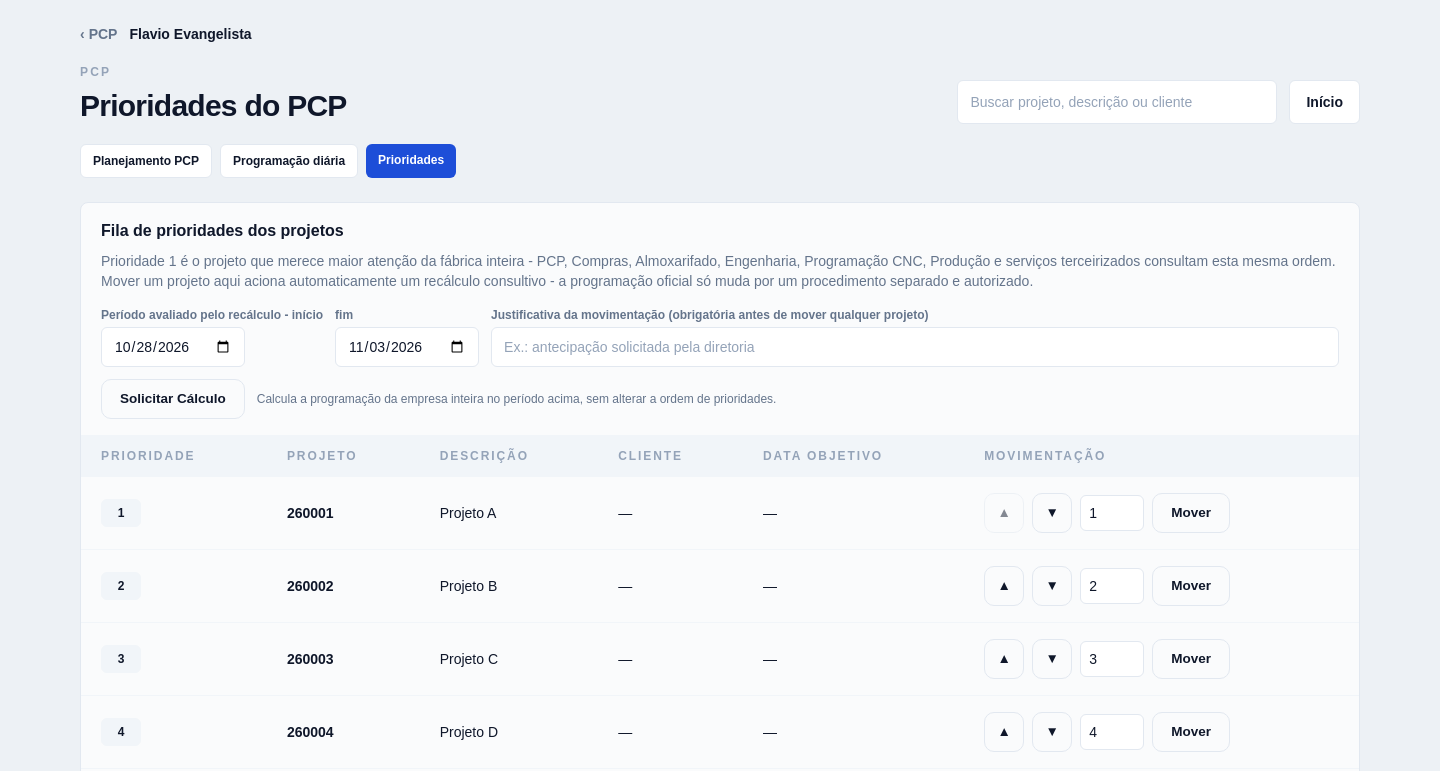
Scenario: PrioridadesPcpPage - Solicitar Cálculo (I6H) › reserva ocupada por uma movimentação de prioridade em andamento: mensagem específica
The image size is (1440, 771).
Click the button "Solicitar Cálculo" at [173, 399], box top-left (101, 379), bottom-right (245, 419)
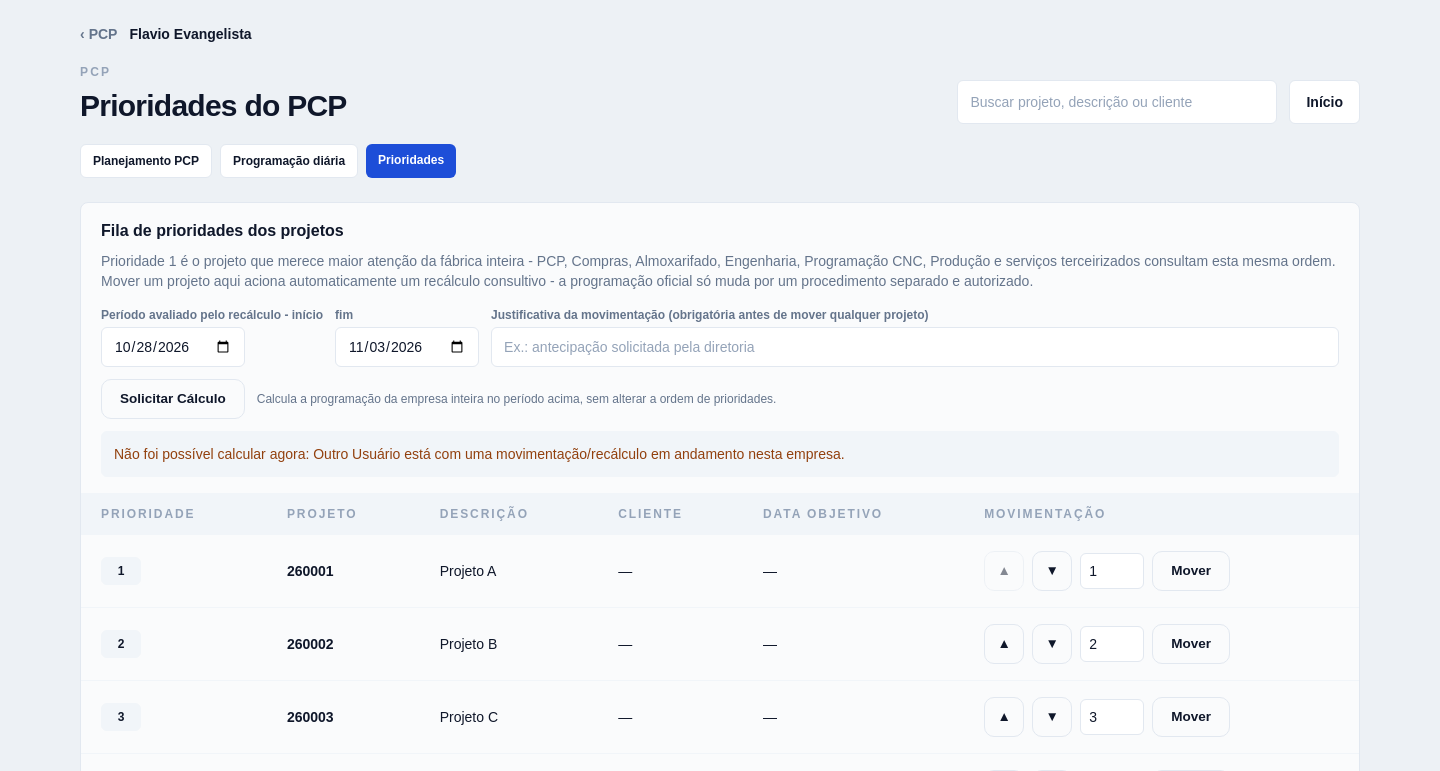
Now the text "Outro Usuário está com uma movimentação" is shown, box top-left (114, 446), bottom-right (845, 462)
